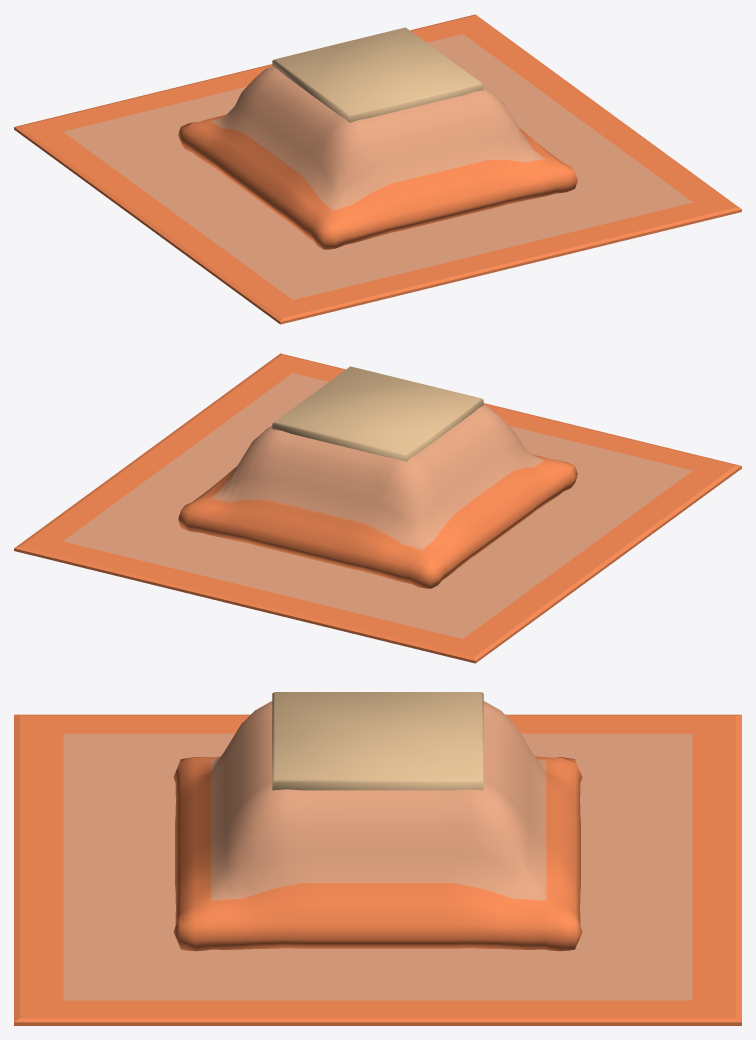
File: Kotatsu.fbx
3 renders of one model, top to bottom at view 1: azimuth 30°, elevation 25°; view 2: azimuth 150°, elevation 25°; view 3: azimuth 270°, elevation 25°, orthographic. The views are drawn at different scales.
Visible parts, largest first — view 1: Cube.003, Cube.002, Cube.001; view 2: Cube.003, Cube.002, Cube.001; view 3: Cube.003, Cube.002, Cube.001.
Part boxes in pixels (bbox=[...]): Cube.003: bbox=[14, 14, 741, 324]; Cube.002: bbox=[178, 66, 577, 249]; Cube.001: bbox=[272, 27, 483, 122]; Cube.003: bbox=[14, 353, 741, 663]; Cube.002: bbox=[178, 405, 577, 588]; Cube.001: bbox=[272, 366, 483, 461]; Cube.003: bbox=[14, 714, 741, 1025]; Cube.002: bbox=[173, 701, 582, 951]; Cube.001: bbox=[272, 692, 483, 790].
Size of the model in its own units: 689 by 142 by 689.
Materials: 2 (1 with a texture image).
